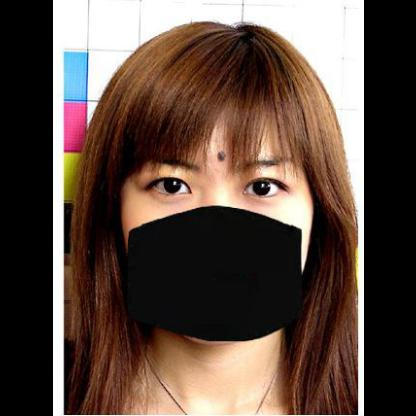Fabric/Cloth Mask: (118, 138, 316, 326)
